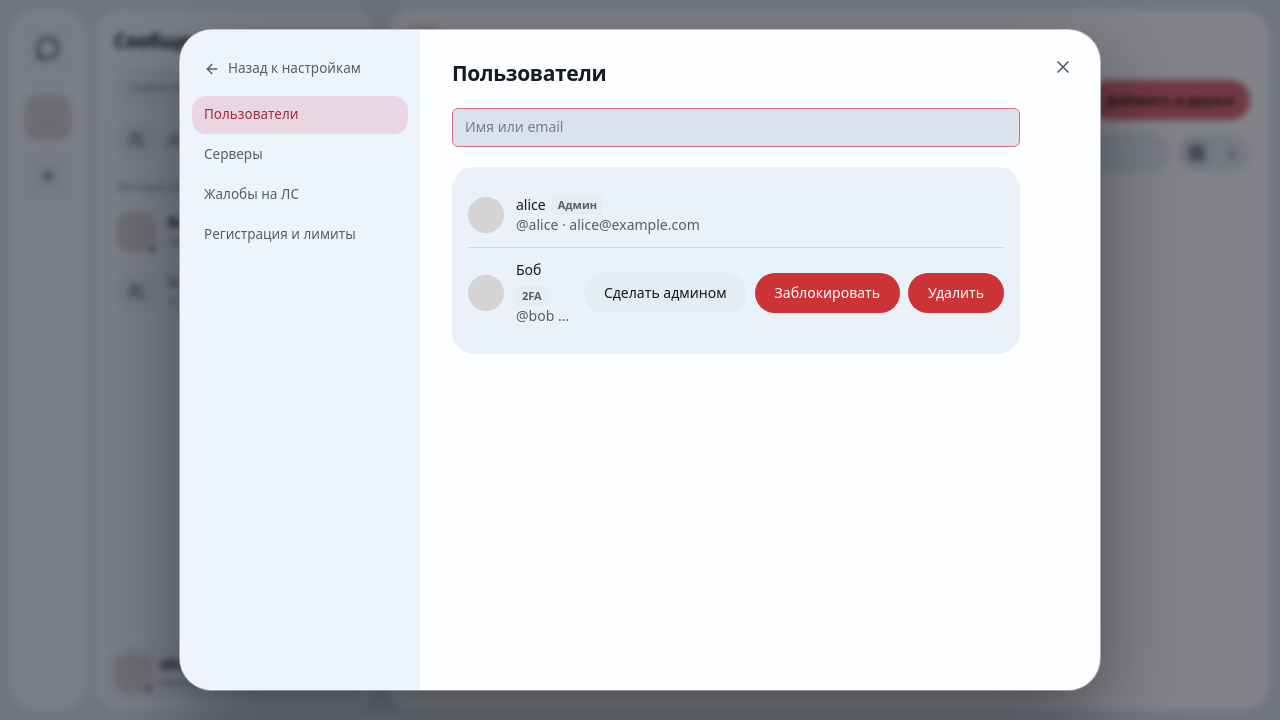
Test: admins deleting accounts › confirm first, then remove the user from the list
Click the button with aria-label "Удалить — bob". click: click(956, 293)
box: [908,273,1004,313]
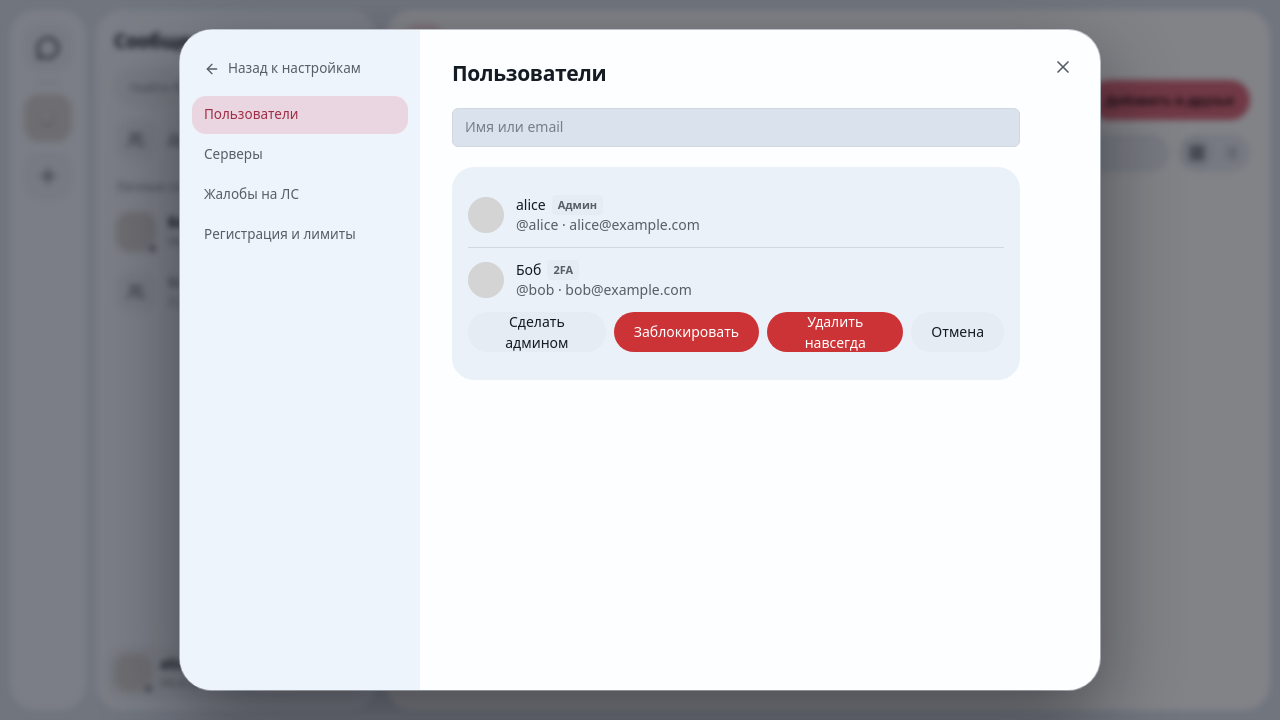
Click the button with aria-label "Удалить навсегда — bob". click: click(835, 332)
box: [767,312,903,352]
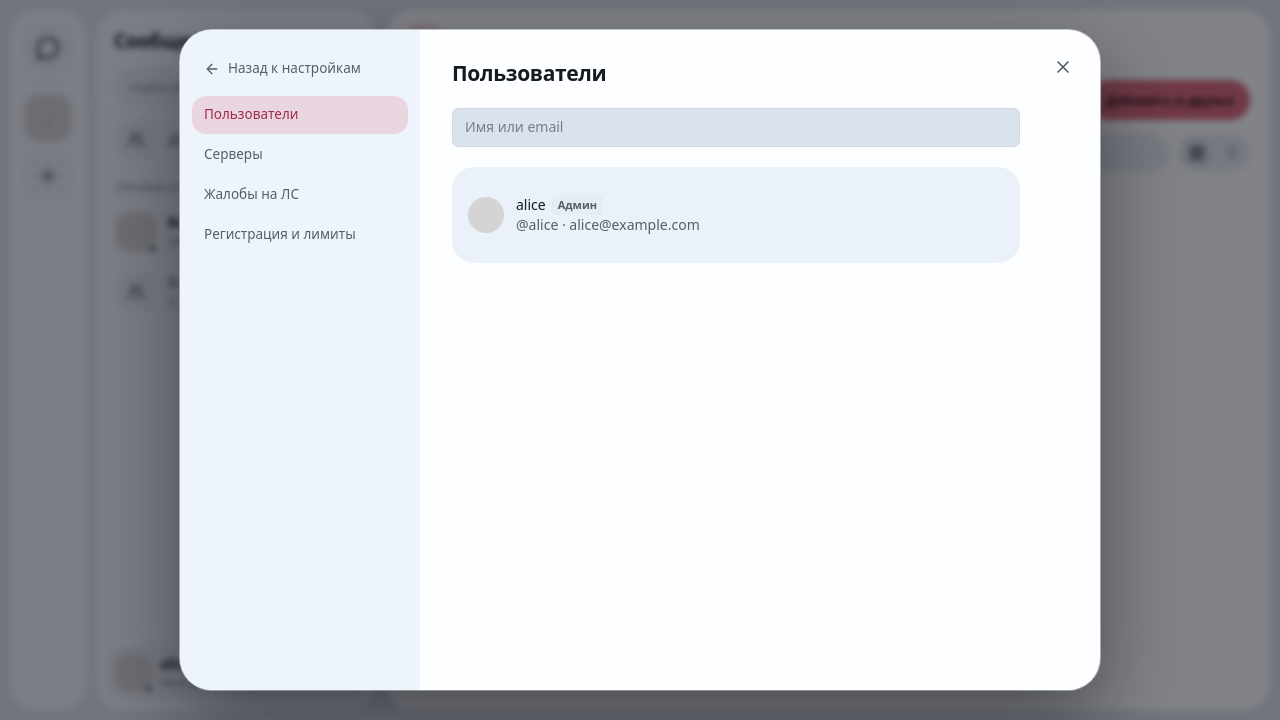
Check: the text "bob@example.com" is gone
